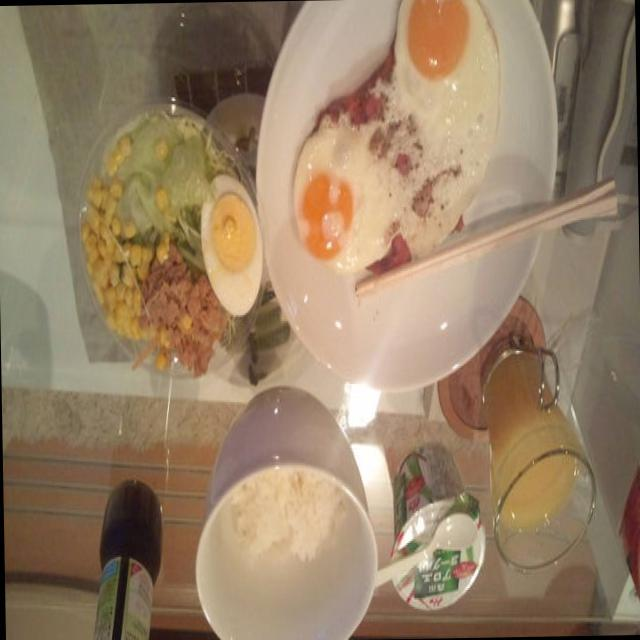Egg: (393, 0, 497, 213), (289, 128, 386, 272), (200, 176, 262, 326)
Green Salad: (82, 118, 208, 360)
Rice: (210, 472, 356, 592)
